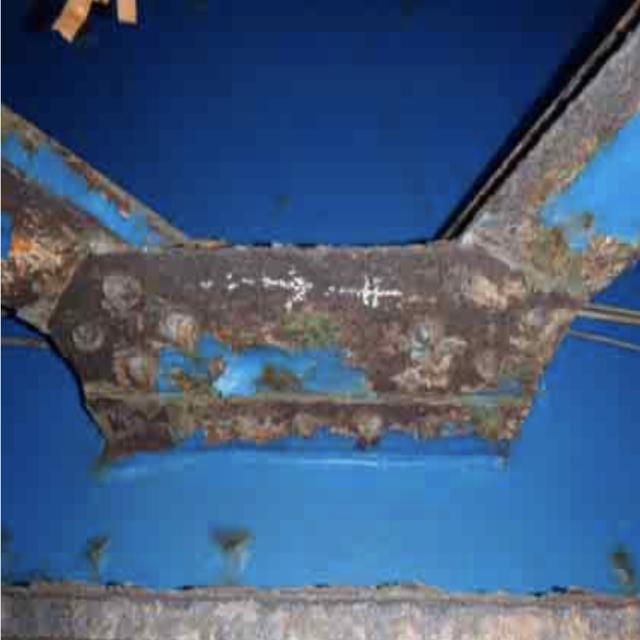corrosion: (7, 114, 606, 462)
